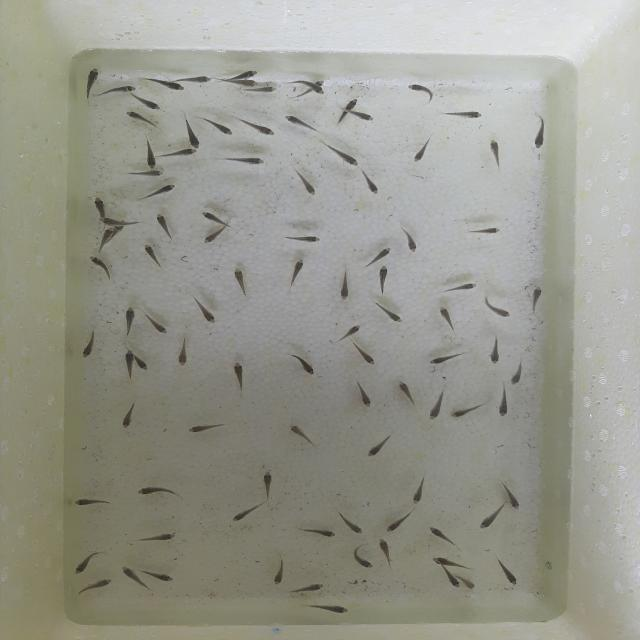fingerling: (318, 140, 360, 167), (190, 292, 222, 326), (294, 165, 322, 199), (281, 351, 316, 377), (490, 555, 518, 586), (283, 114, 322, 136), (335, 507, 368, 533), (368, 304, 408, 325), (133, 485, 188, 500), (79, 65, 100, 103), (406, 82, 440, 105), (378, 538, 400, 571), (452, 397, 486, 418), (351, 378, 374, 409), (238, 118, 276, 136), (202, 114, 233, 136), (79, 330, 101, 361), (287, 425, 318, 447), (410, 472, 430, 506), (155, 212, 179, 240), (306, 600, 354, 614), (257, 469, 280, 498), (230, 266, 251, 297), (350, 543, 376, 568), (72, 552, 99, 576), (78, 576, 114, 594), (444, 278, 481, 295), (412, 137, 437, 162), (334, 98, 358, 124), (436, 306, 460, 332), (140, 183, 176, 200), (426, 526, 460, 544), (485, 138, 504, 170), (230, 362, 250, 392), (430, 555, 470, 570), (145, 314, 171, 337), (428, 389, 446, 422), (427, 351, 464, 367), (224, 154, 266, 168), (438, 563, 459, 591), (400, 224, 420, 253), (532, 114, 548, 150), (336, 272, 354, 303), (446, 107, 483, 122), (87, 254, 110, 278), (141, 135, 157, 169), (184, 119, 202, 149), (364, 246, 394, 264), (351, 346, 378, 366), (288, 582, 329, 595), (367, 437, 395, 456), (230, 506, 263, 522), (288, 259, 309, 284), (101, 83, 138, 97), (398, 382, 417, 409), (502, 478, 519, 508), (143, 568, 177, 583), (143, 79, 185, 91), (144, 244, 162, 272), (137, 532, 179, 544), (337, 322, 362, 342), (484, 302, 513, 319), (272, 558, 289, 587), (184, 422, 228, 433), (374, 265, 390, 295), (173, 338, 190, 366), (286, 232, 322, 245), (72, 497, 114, 508), (98, 217, 144, 227), (363, 170, 380, 197), (301, 526, 342, 537), (122, 404, 140, 429), (122, 566, 140, 591), (120, 110, 152, 124), (121, 349, 135, 381), (160, 148, 197, 160), (480, 510, 502, 530), (489, 336, 504, 365), (496, 389, 510, 420), (178, 74, 214, 86), (122, 305, 136, 335), (386, 514, 409, 532), (506, 368, 527, 387), (530, 286, 546, 310), (92, 195, 108, 217), (126, 169, 164, 178), (200, 210, 220, 227), (348, 110, 374, 123), (100, 227, 114, 250), (468, 227, 502, 236), (232, 69, 262, 79), (243, 86, 280, 94), (137, 96, 161, 108), (226, 79, 258, 88), (203, 230, 222, 244), (135, 356, 150, 370), (462, 575, 477, 589), (307, 86, 325, 94)
